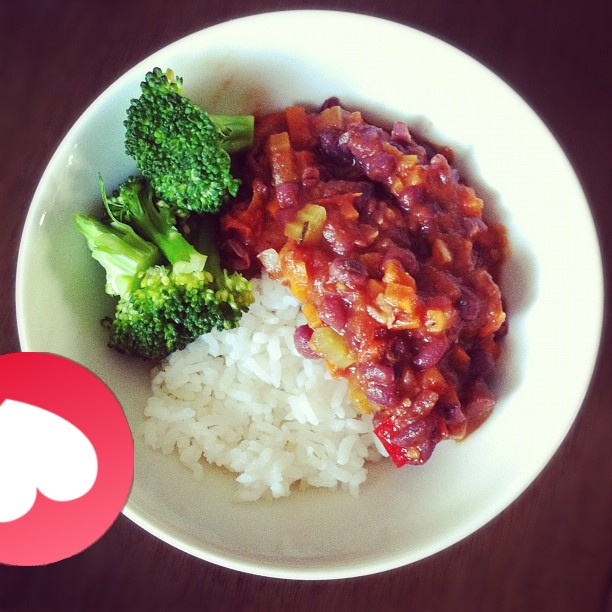love: (0, 352, 134, 566)
